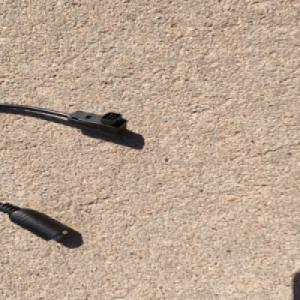Wire: (0, 99, 132, 243)
